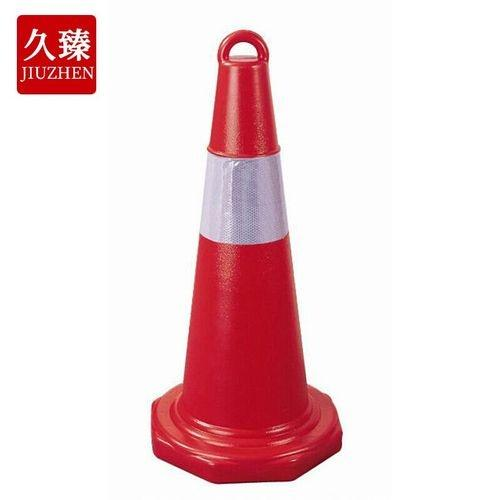cone_barrel: (153, 40, 335, 481)
